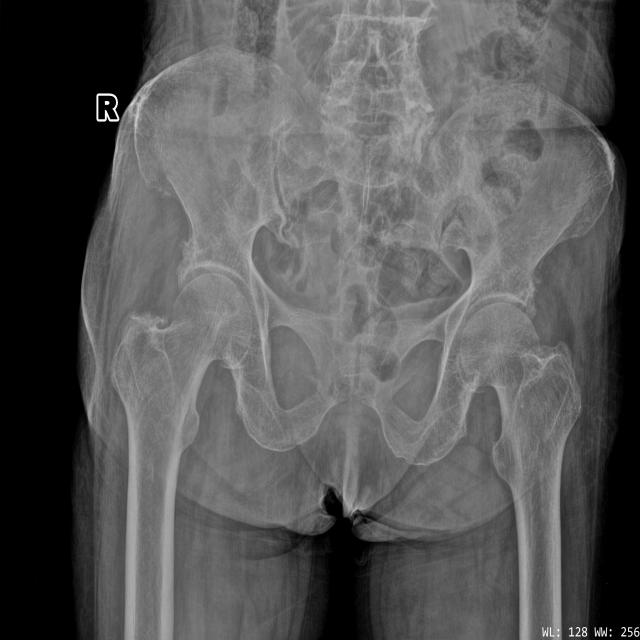normal-left: (460, 302, 582, 572)
normal-right: (110, 273, 253, 561)
